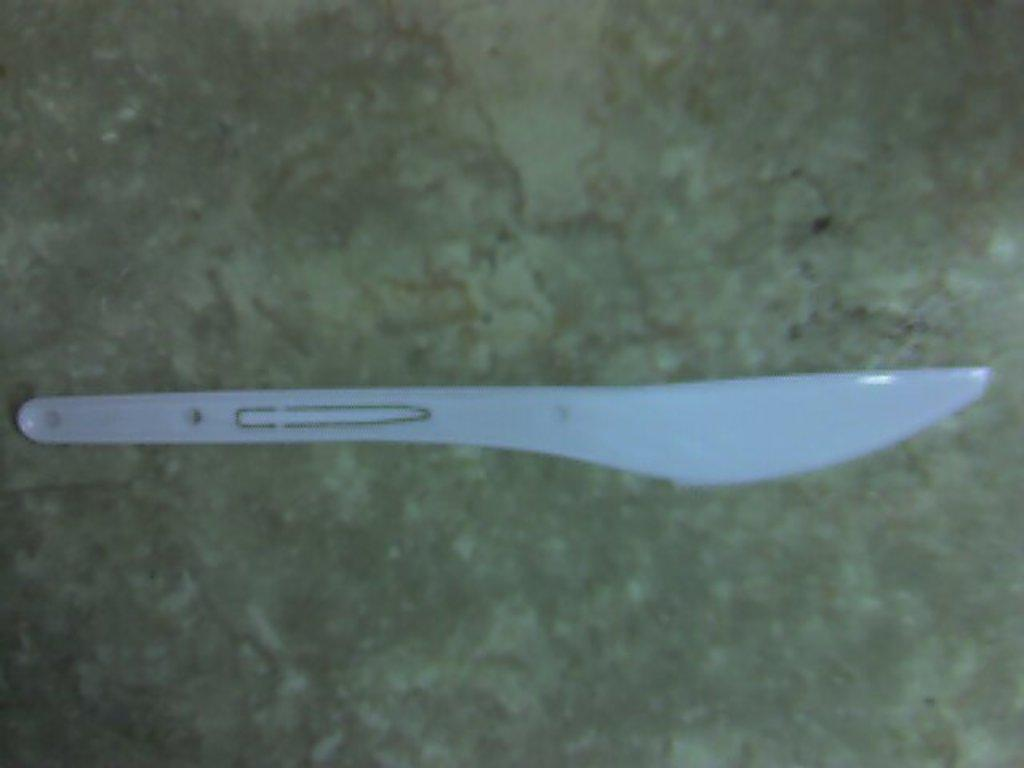Knife: (0, 355, 1024, 507)
